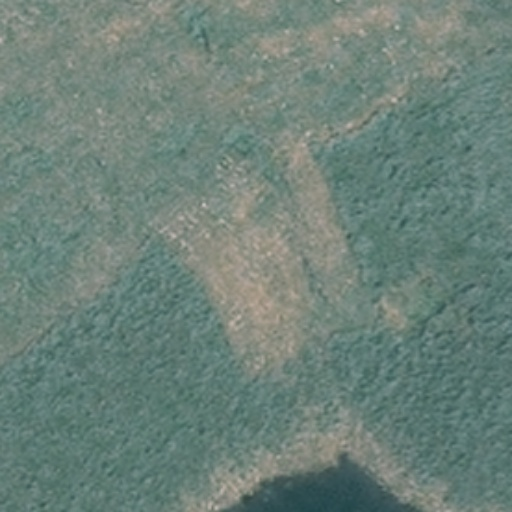landslide: (165, 155, 360, 360)
